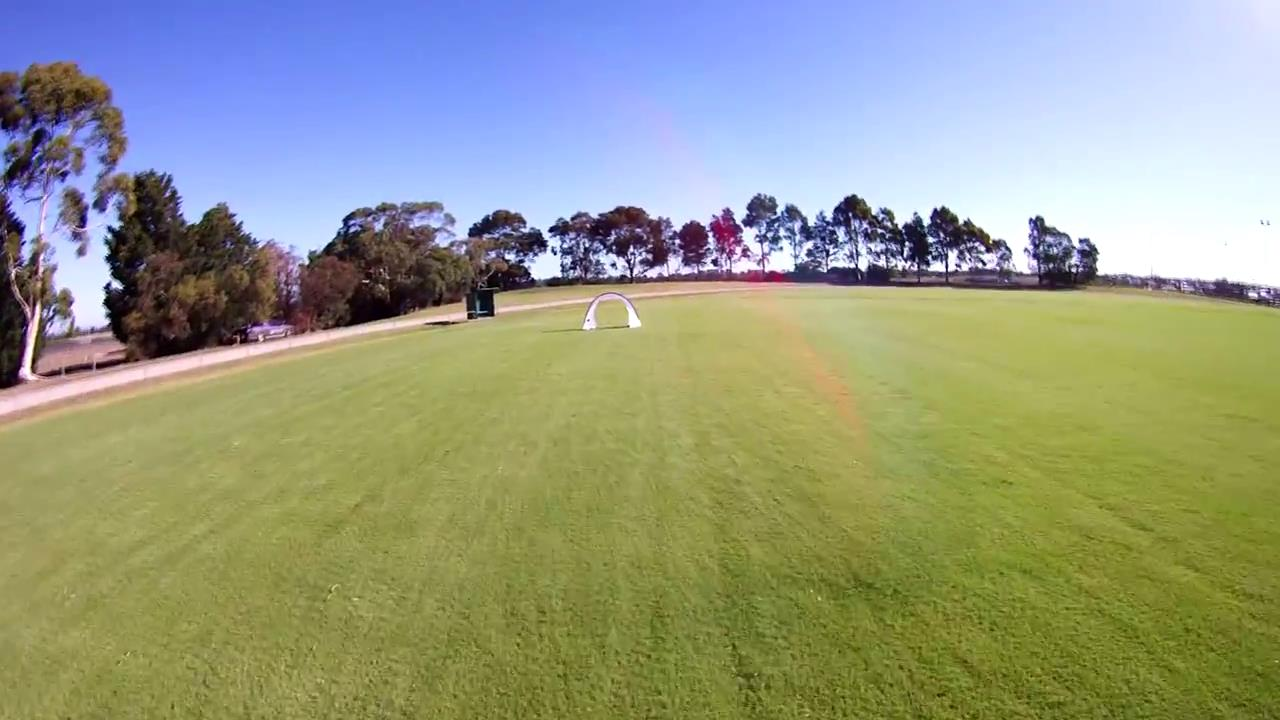gate: (580, 292, 644, 331)
